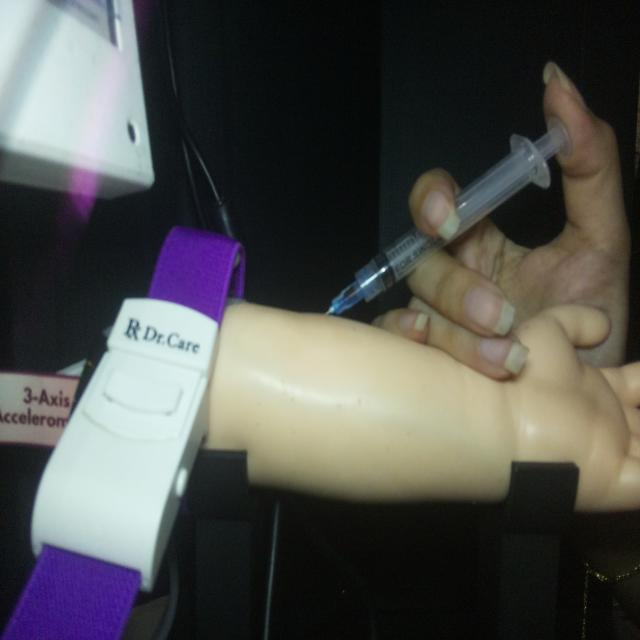27 degrees: (323, 115, 571, 319)
